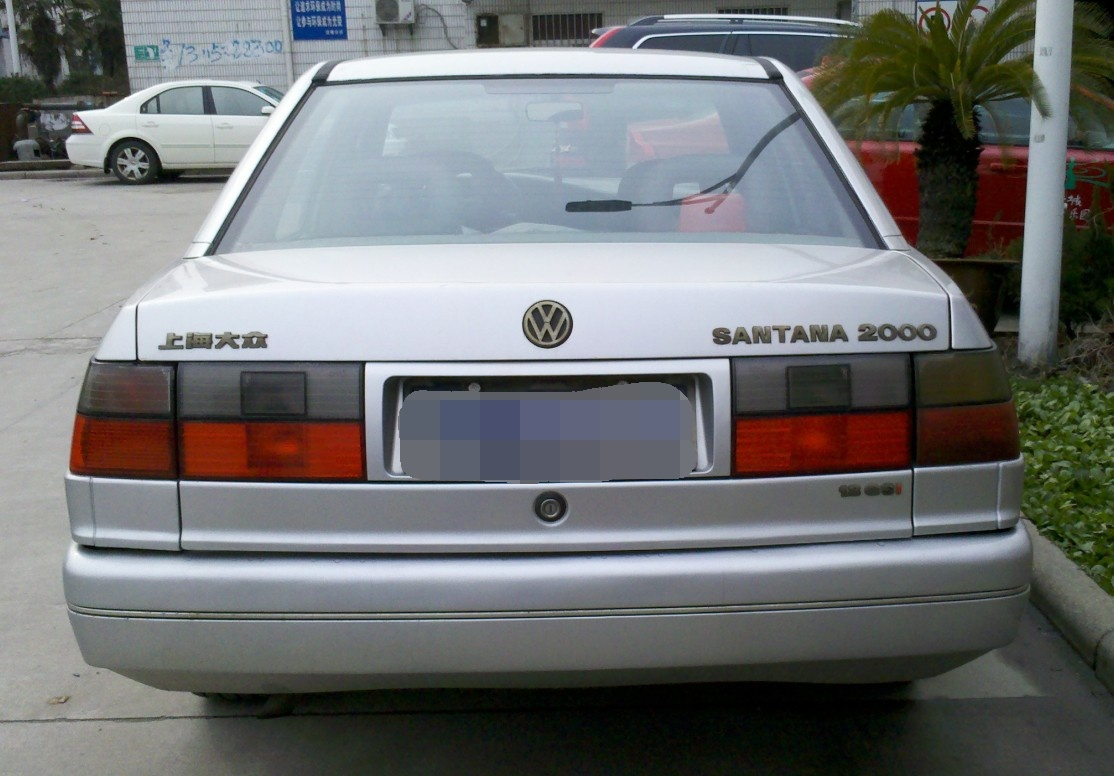family sedan: (71, 42, 1026, 701)
